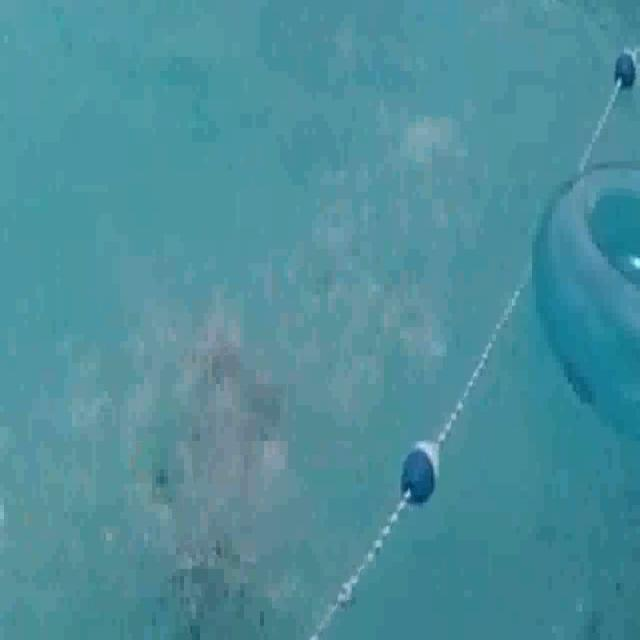drowning: (127, 326, 301, 633)
